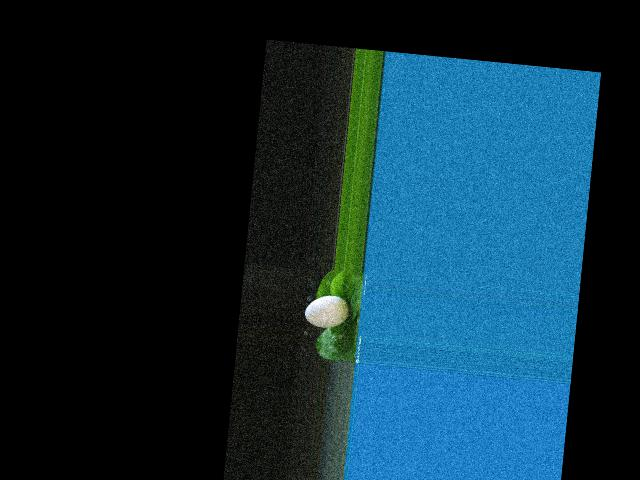egg: (304, 292, 350, 329)
